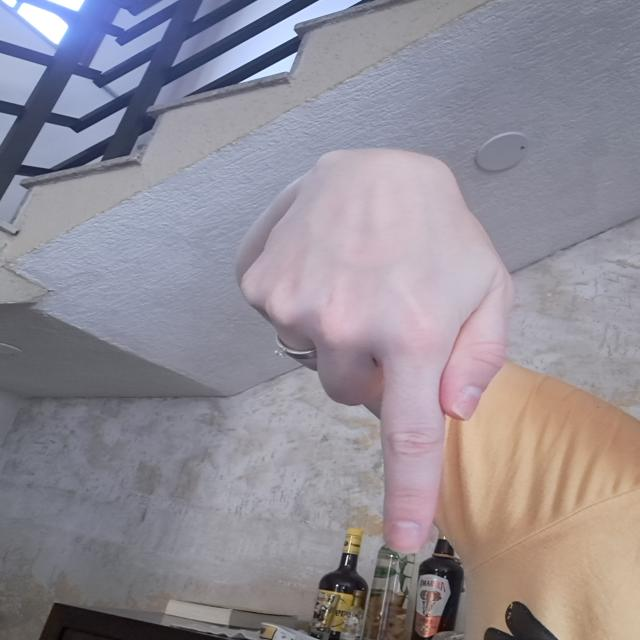Q: (246, 143, 515, 575)
